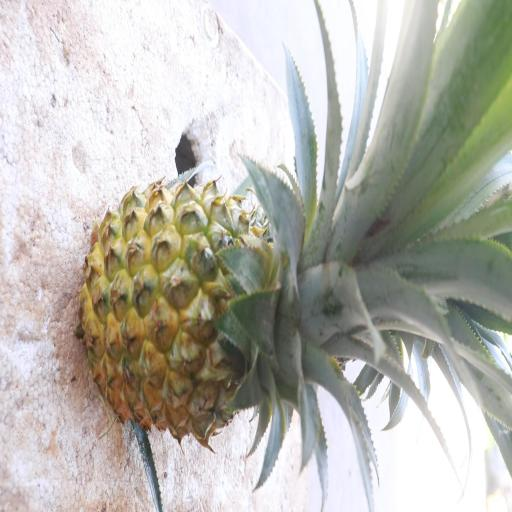Pineapple - v8 v1: (77, 165, 393, 453)
